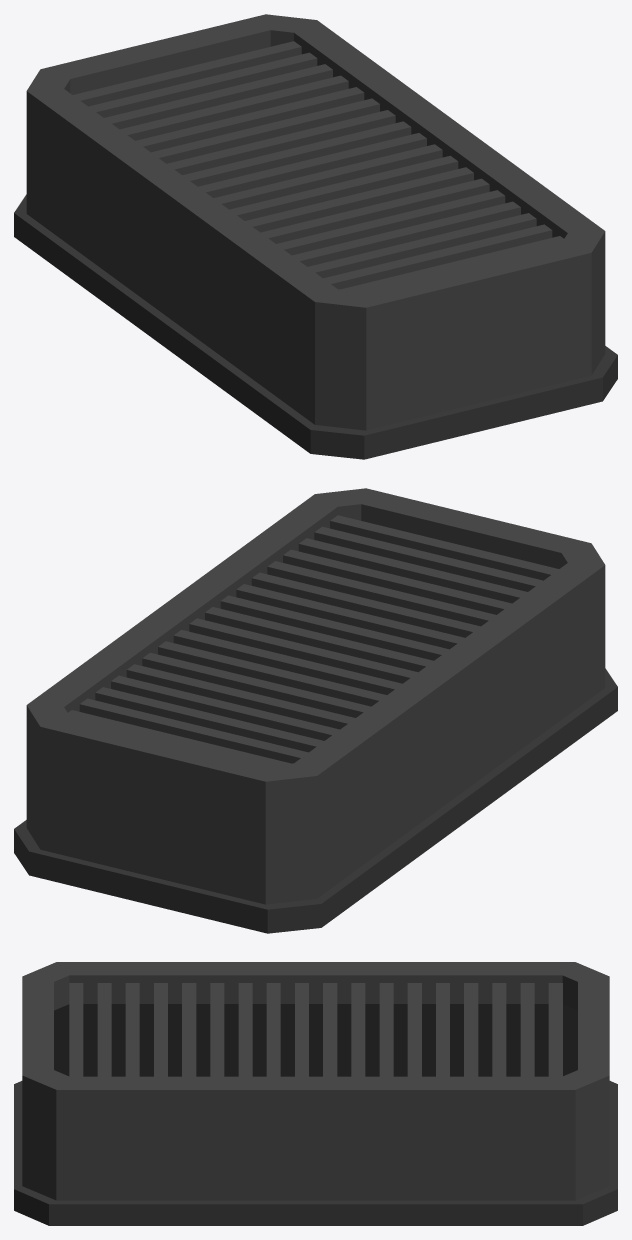
File: SM_Buildings_Part_05.fbx
The picture shows the model from 3 angles, top to bottom: view 1: azimuth 30°, elevation 25°; view 2: azimuth 150°, elevation 25°; view 3: azimuth 270°, elevation 25°; orthographic projection. The views are drawn at different scales.
Parts seen in each view (by area): view 1: SM_Buildings_Part_05; view 2: SM_Buildings_Part_05; view 3: SM_Buildings_Part_05.
Boxes of the visible parts, <box> form: SM_Buildings_Part_05: <box>14,14,617,459</box>; SM_Buildings_Part_05: <box>14,488,617,933</box>; SM_Buildings_Part_05: <box>14,962,617,1225</box>.
Bounding box in the file's own units: 67.92 × 31 × 128.
